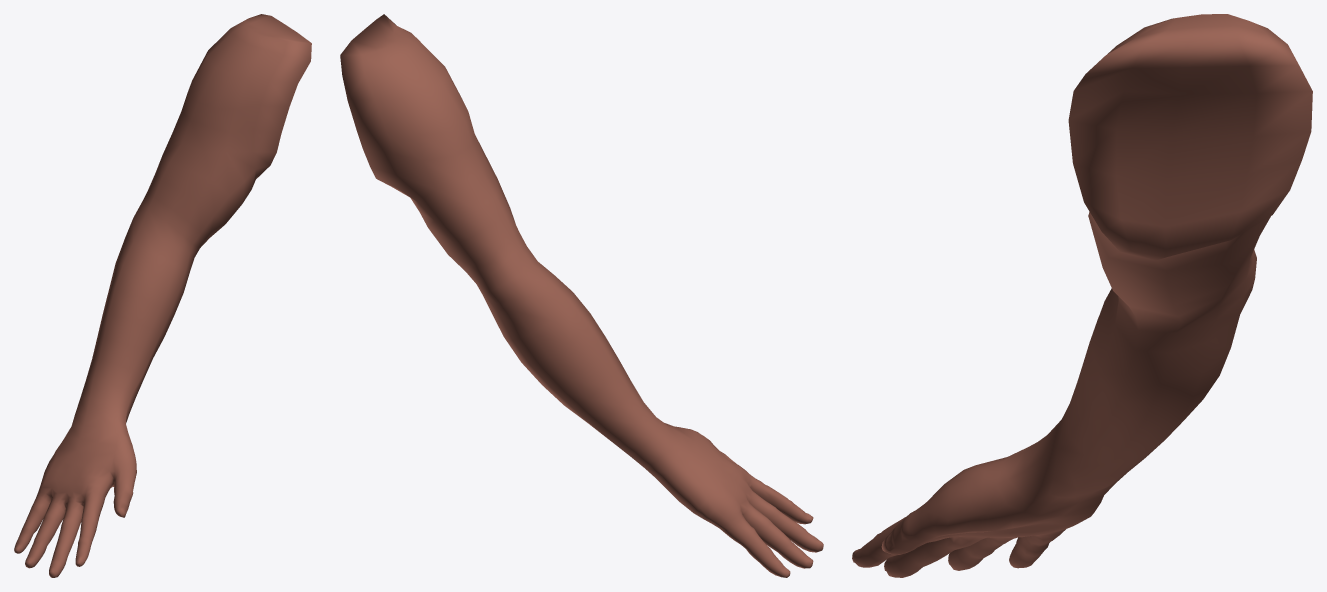
Rendered from Arm.R.fbx.
3 views of the same model, side by side, from view 1: azimuth 30°, elevation 25°; view 2: azimuth 150°, elevation 25°; view 3: azimuth 270°, elevation 25° (orthographic). The views are drawn at different scales.
Parts seen in each view (by area): view 1: Arm.R; view 2: Arm.R; view 3: Arm.R.
Part boxes in pixels (<box>): Arm.R: <box>14,14,311,577</box>; Arm.R: <box>340,14,823,577</box>; Arm.R: <box>852,14,1312,577</box>.
Bounding box in the file's own units: 185 × 231 × 117.
